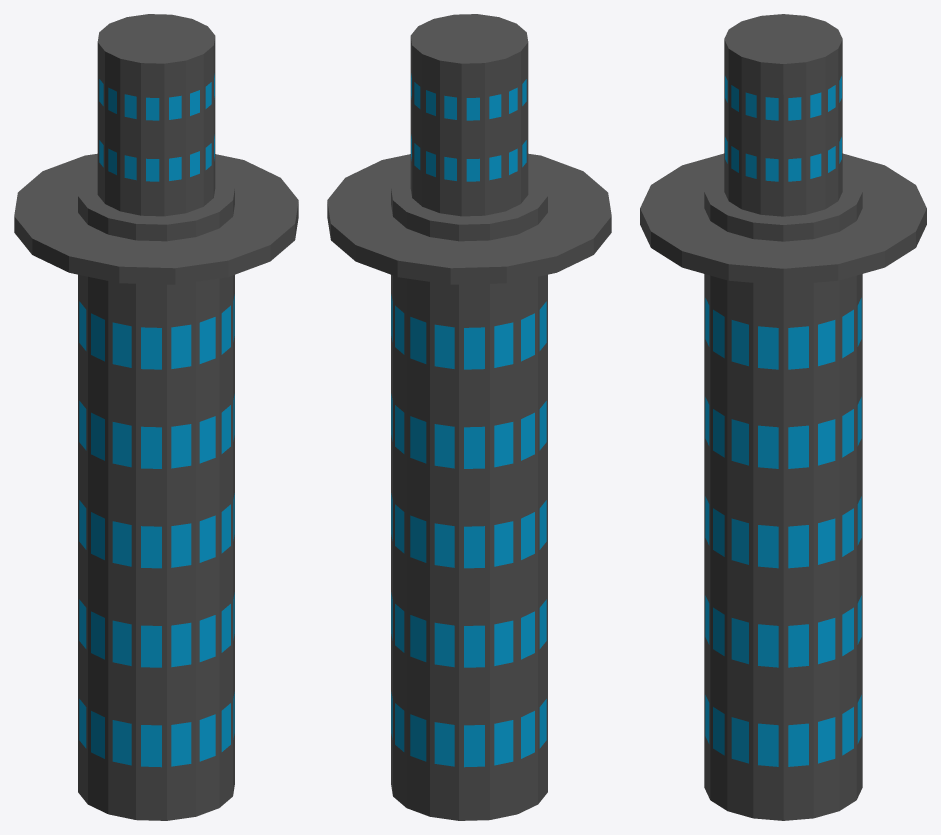
File: SM_Build.fbx
3 renders of one model, left to right at view 1: azimuth 30°, elevation 25°; view 2: azimuth 150°, elevation 25°; view 3: azimuth 270°, elevation 25°, orthographic.
Parts seen in each view (by area): view 1: Cylinder; view 2: Cylinder; view 3: Cylinder.
Part boxes in pixels (x1,y1,x2,y2): Cylinder: (14,14,298,820); Cylinder: (327,14,611,820); Cylinder: (640,14,926,820).
Bounding box in the file's own units: 4192 × 12070 × 4192.
